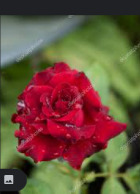RedRose: (13, 61, 131, 166)
